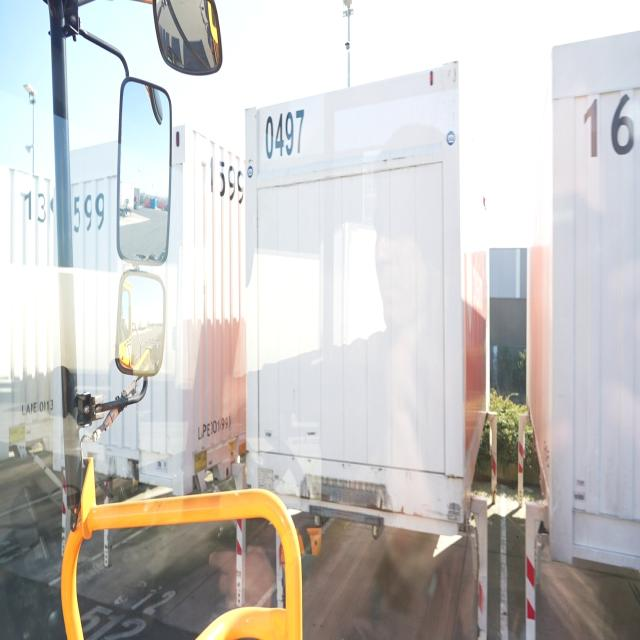Code: (208, 152, 246, 210), (264, 106, 306, 158)
